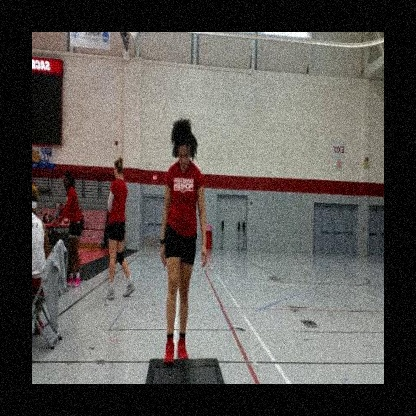lateral_flexion_normal: (156, 113, 212, 370)
stance_width_narrow: (155, 154, 211, 370)
